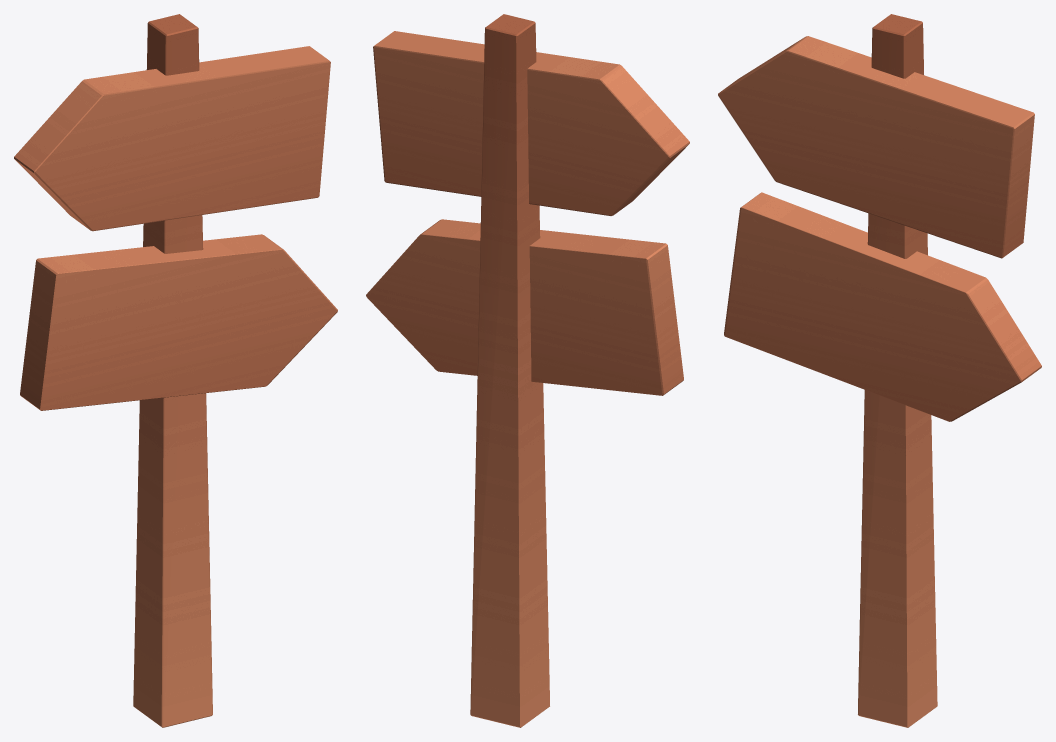
File: kenney-survival__signpost.glb
The picture shows the model from 3 angles, left to right: view 1: azimuth 30°, elevation 25°; view 2: azimuth 150°, elevation 25°; view 3: azimuth 330°, elevation 25°; orthographic projection.
Parts seen in each view (by area): view 1: signpost; view 2: signpost; view 3: signpost.
Part boxes in pixels (x1,y1,x2,y2): signpost: [14, 14, 337, 727]; signpost: [366, 14, 689, 727]; signpost: [718, 14, 1041, 727].
Bounding box in the file's own units: 0.213 × 0.4601 × 0.043.
1 material, 1 textured.
